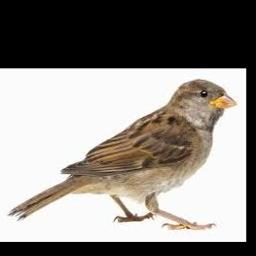Sparrow: (8, 79, 237, 230)
